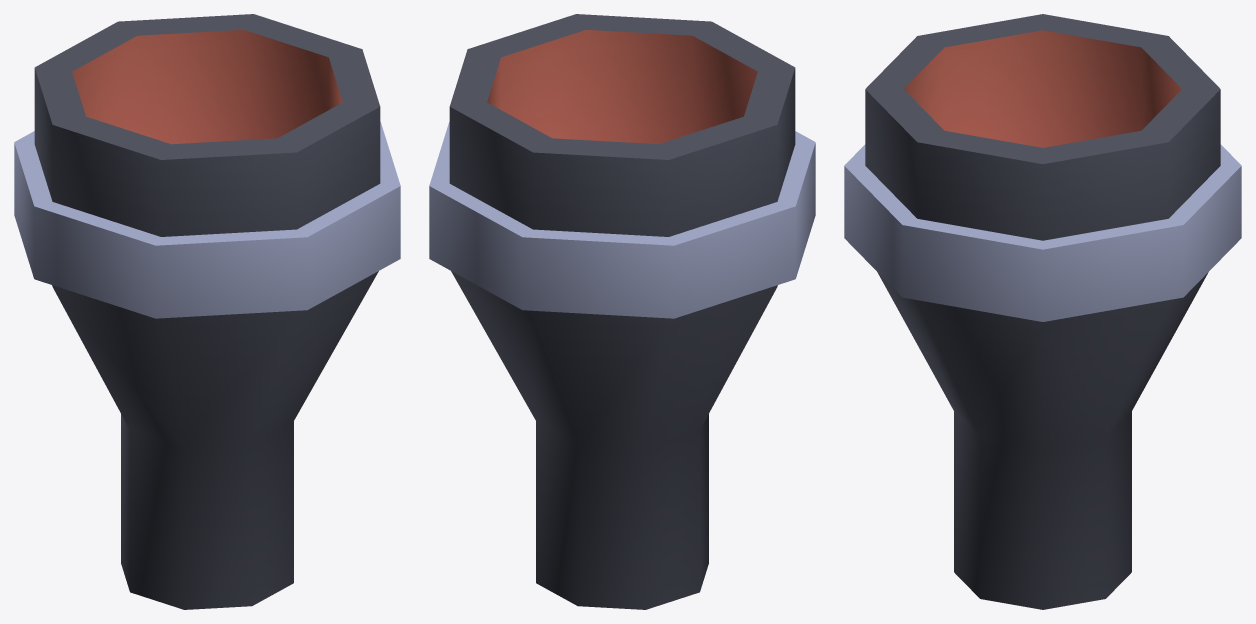
Rendered from hopper-high-round.obj.
3 renders of one model, left to right at view 1: azimuth 30°, elevation 25°; view 2: azimuth 150°, elevation 25°; view 3: azimuth 270°, elevation 25°, orthographic.
Parts seen in each view (by area): view 1: hopper-high-round; view 2: hopper-high-round; view 3: hopper-high-round.
Boxes of the visible parts, x1,y1,x2,y2 form: hopper-high-round: (14, 14, 400, 609); hopper-high-round: (429, 14, 815, 609); hopper-high-round: (844, 14, 1241, 609).
Size of the model in its own units: 1.12 by 1.5 by 1.12.
